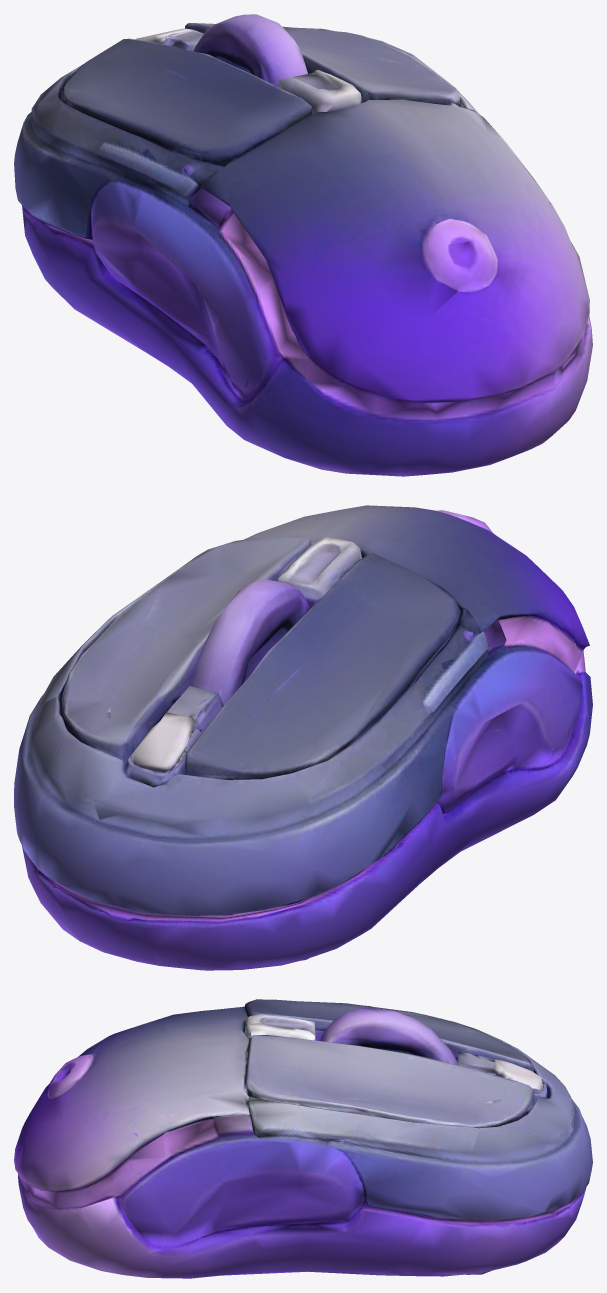
The model's file is junior_mouse.glb.
The picture shows the model from 3 angles, top to bottom: view 1: azimuth 30°, elevation 25°; view 2: azimuth 150°, elevation 25°; view 3: azimuth 270°, elevation 25°; orthographic projection. The views are drawn at different scales.
Parts seen in each view (by area): view 1: tripo_node_91727fa6-d54b-49b9-95c4-d0a19282c2c2; view 2: tripo_node_91727fa6-d54b-49b9-95c4-d0a19282c2c2; view 3: tripo_node_91727fa6-d54b-49b9-95c4-d0a19282c2c2.
Boxes of the visible parts, left/top/right/bottom form: tripo_node_91727fa6-d54b-49b9-95c4-d0a19282c2c2: left=14, top=14, right=592, bottom=476; tripo_node_91727fa6-d54b-49b9-95c4-d0a19282c2c2: left=14, top=505, right=592, bottom=970; tripo_node_91727fa6-d54b-49b9-95c4-d0a19282c2c2: left=14, top=999, right=592, bottom=1278.
Size of the model in its own units: 0.537 by 0.4119 by 0.9796.
1 material, 1 textured.
